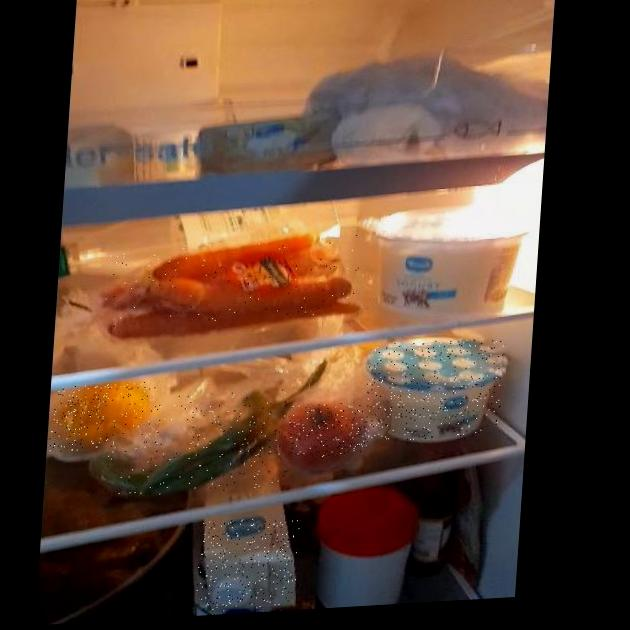carrot: (104, 234, 363, 328)
green chilies: (100, 388, 292, 498)
lemon: (49, 381, 157, 453)
milk: (195, 516, 300, 613)
tomato: (281, 401, 371, 459)
yoghurt: (374, 205, 520, 318), (363, 337, 505, 443)
